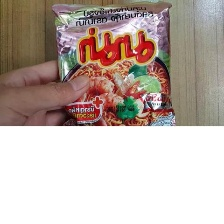snack: (46, 0, 184, 126)
